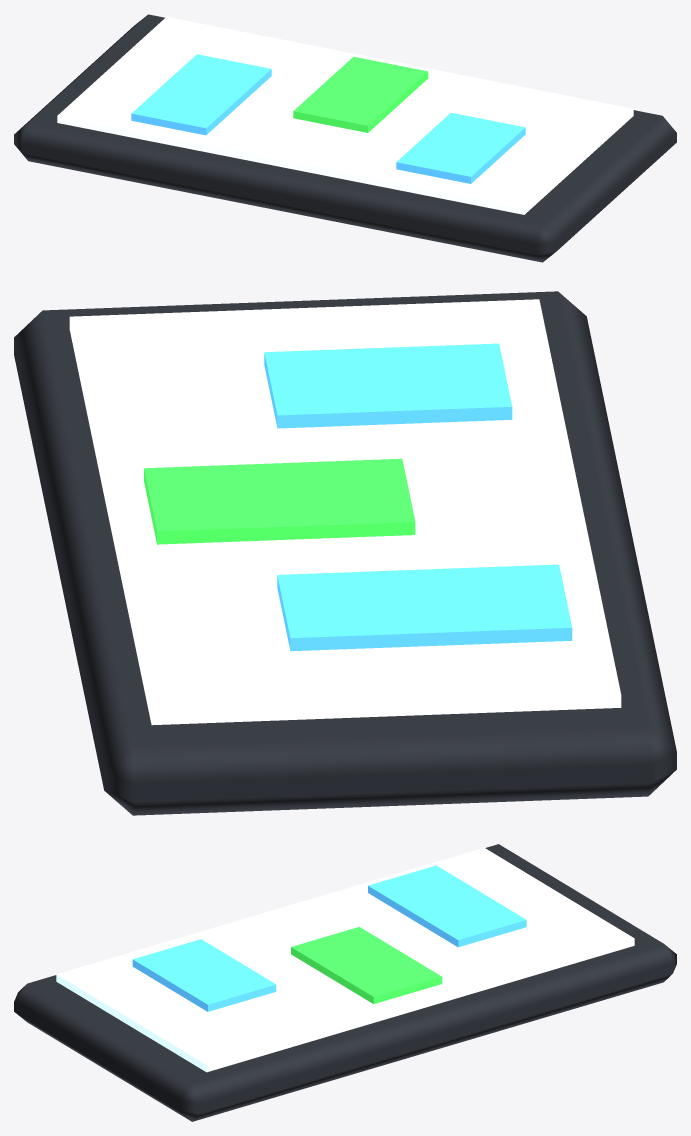
File: station_special_ausstattung_1_0.glb
3 views of the same model, one above another, from view 1: azimuth 30°, elevation 25°; view 2: azimuth 150°, elevation 25°; view 3: azimuth 270°, elevation 25° (orthographic). The views are drawn at different scales.
Visible parts, largest first — view 1: station_special_ausstattung_1_0; view 2: station_special_ausstattung_1_0; view 3: station_special_ausstattung_1_0.
Boxes of the visible parts, left/top/right/bottom form: station_special_ausstattung_1_0: left=14, top=14, right=676, bottom=262; station_special_ausstattung_1_0: left=14, top=291, right=676, bottom=815; station_special_ausstattung_1_0: left=14, top=844, right=676, bottom=1121.
Size of the model in its own units: 0.2222 by 0.022 by 0.2487.
